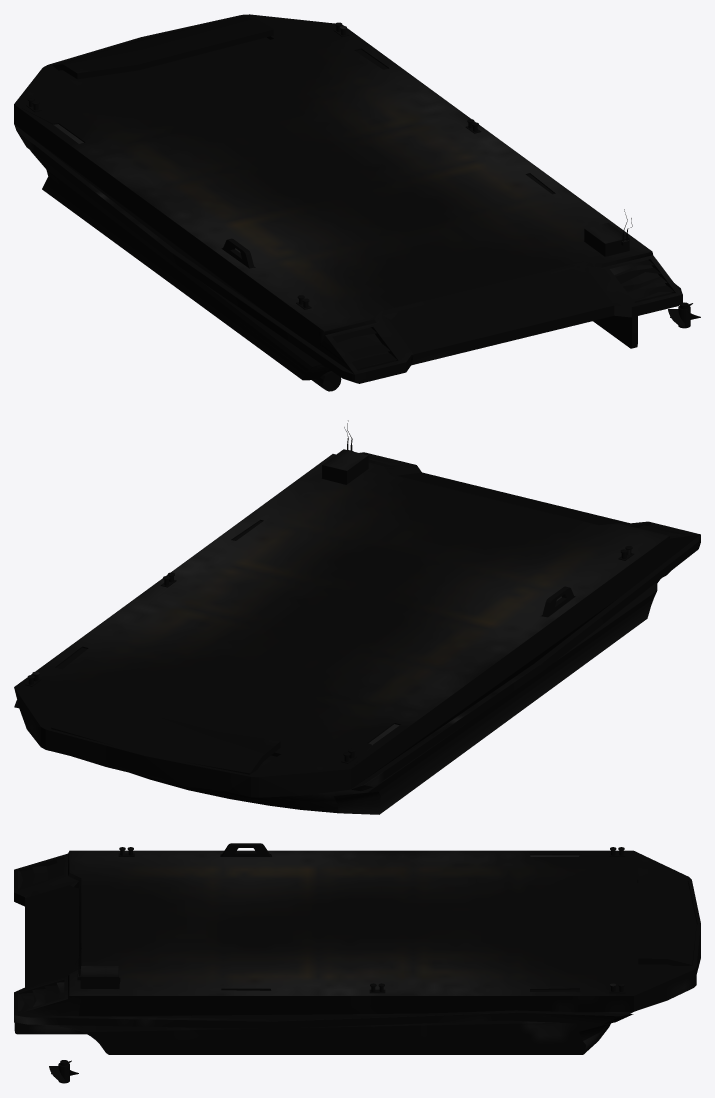
The model's file is barge_broken.fbx.
3 renders of one model, top to bottom at view 1: azimuth 30°, elevation 25°; view 2: azimuth 150°, elevation 25°; view 3: azimuth 270°, elevation 25°, orthographic. The views are drawn at different scales.
Parts seen in each view (by area): view 1: barge_broken, barge_broken_back, barge_broken_side_l_2, barge_broken_side_l_1, barge_broken_box, barge_broken_fin; view 2: barge_broken, barge_broken_side_l_1, barge_broken_side_l_2, barge_broken_back, barge_broken_box; view 3: barge_broken, barge_broken_back, barge_broken_side_r_3, barge_broken_side_r_2, barge_broken_side_r_1, barge_broken_box, barge_broken_fin, barge_broken_extra_2, barge_broken_propeller.
Part boxes in pixels (left/top/right/bottom): barge_broken: left=14, top=14, right=682, bottom=383; barge_broken_back: left=390, top=269, right=614, bottom=365; barge_broken_side_l_2: left=172, top=251, right=354, bottom=382; barge_broken_side_l_1: left=14, top=124, right=176, bottom=264; barge_broken_box: left=584, top=209, right=632, bottom=256; barge_broken_fin: left=593, top=315, right=637, bottom=348; barge_broken: left=14, top=452, right=700, bottom=814; barge_broken_side_l_1: left=351, top=664, right=543, bottom=791; barge_broken_side_l_2: left=534, top=535, right=700, bottom=669; barge_broken_back: left=398, top=472, right=627, bottom=524; barge_broken_box: left=322, top=420, right=368, bottom=484; barge_broken: left=14, top=847, right=700, bottom=1054; barge_broken_back: left=25, top=885, right=78, bottom=987; barge_broken_side_r_3: left=14, top=1015, right=271, bottom=1028; barge_broken_side_r_2: left=266, top=1010, right=515, bottom=1028; barge_broken_side_r_1: left=507, top=1010, right=633, bottom=1024; barge_broken_box: left=75, top=948, right=118, bottom=988; barge_broken_fin: left=14, top=1022, right=86, bottom=1034; barge_broken_extra_2: left=221, top=843, right=270, bottom=856; barge_broken_propeller: left=49, top=1060, right=78, bottom=1083.
Size of the model in its own units: 3523 by 1067 by 5992.
1 material, 1 textured.
